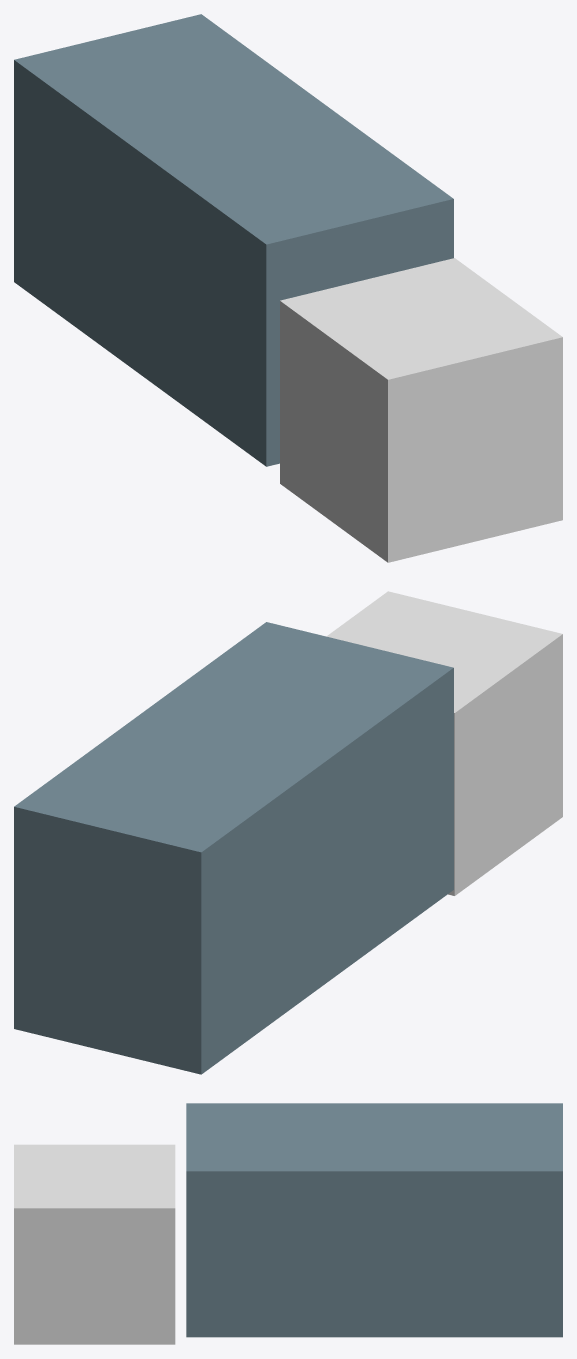
Rendered from delivery_truck.glb.
3 renders of one model, top to bottom at view 1: azimuth 30°, elevation 25°; view 2: azimuth 150°, elevation 25°; view 3: azimuth 270°, elevation 25°, orthographic. The views are drawn at different scales.
Size of the model in its own units: 3 by 3.6 by 10.2.
